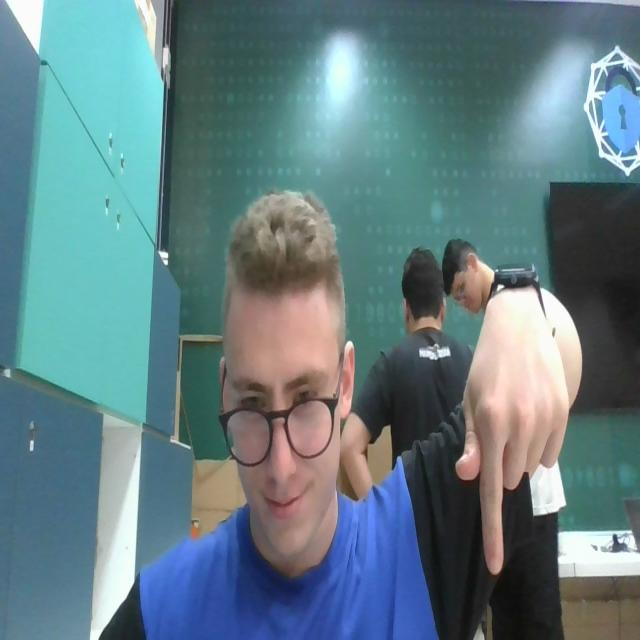Q: (444, 293, 572, 578)
